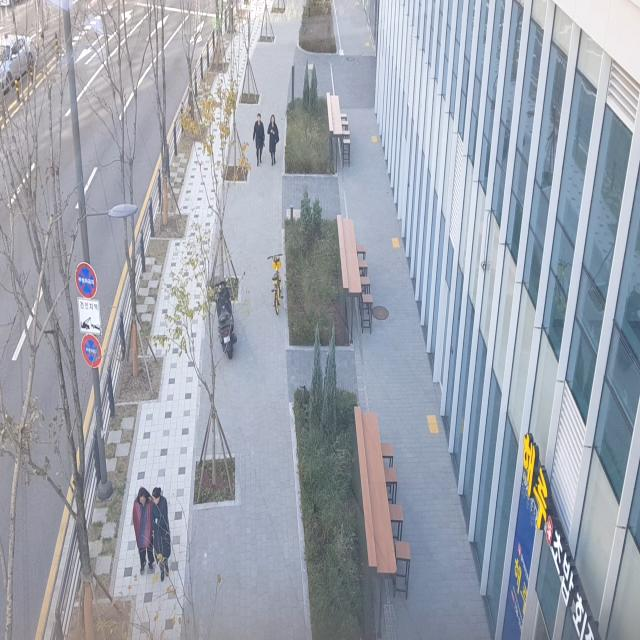Car: (0, 22, 41, 106)
